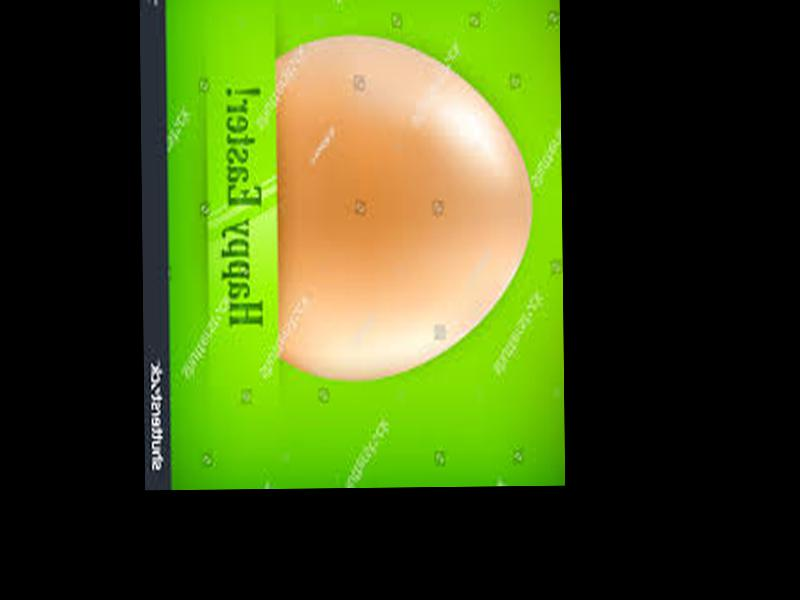Eggs: (275, 33, 534, 380)
